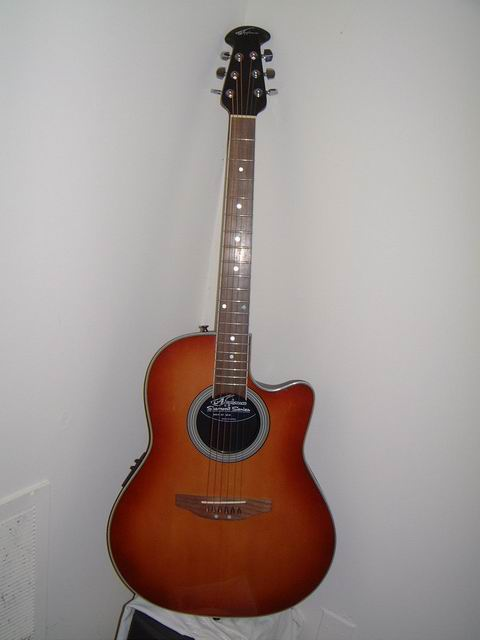guitar: (103, 22, 338, 619)
